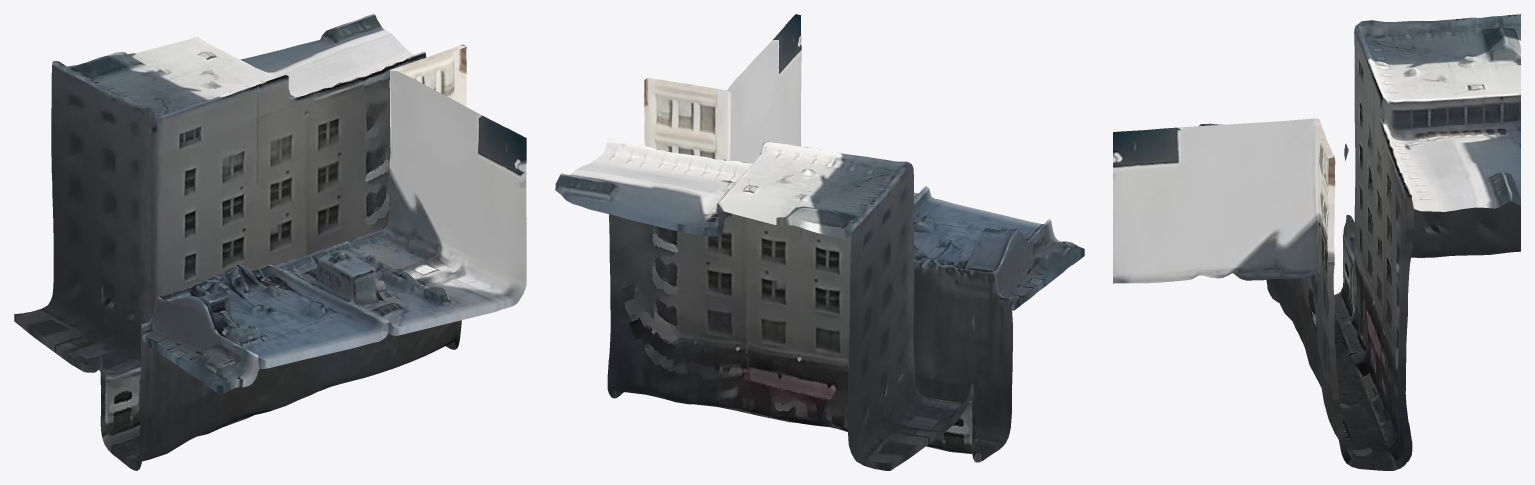
The model's file is z20-167759-405239-h0-yup-uvflip-v3-world.glb.
3 views of the same model, side by side, from view 1: azimuth 30°, elevation 25°; view 2: azimuth 150°, elevation 25°; view 3: azimuth 270°, elevation 25° (orthographic). The views are drawn at different scales.
Bounding box in the file's own units: 30.2 × 26.08 × 30.32.
1 material, 1 textured.
